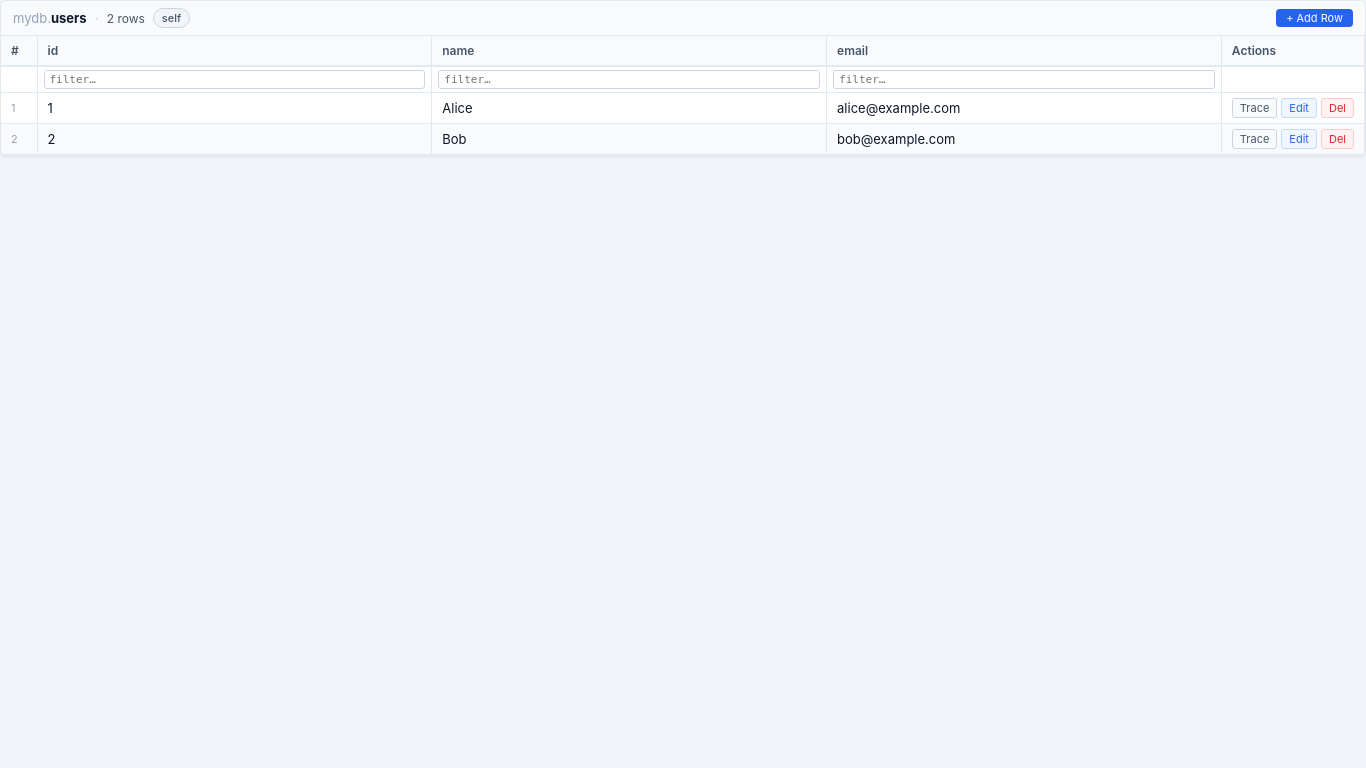
Test: TableGrid › Edit button opens modal
Click the button "Edit" in the row of "alice@example.com" at (1299,108), box [1281,98,1317,118]
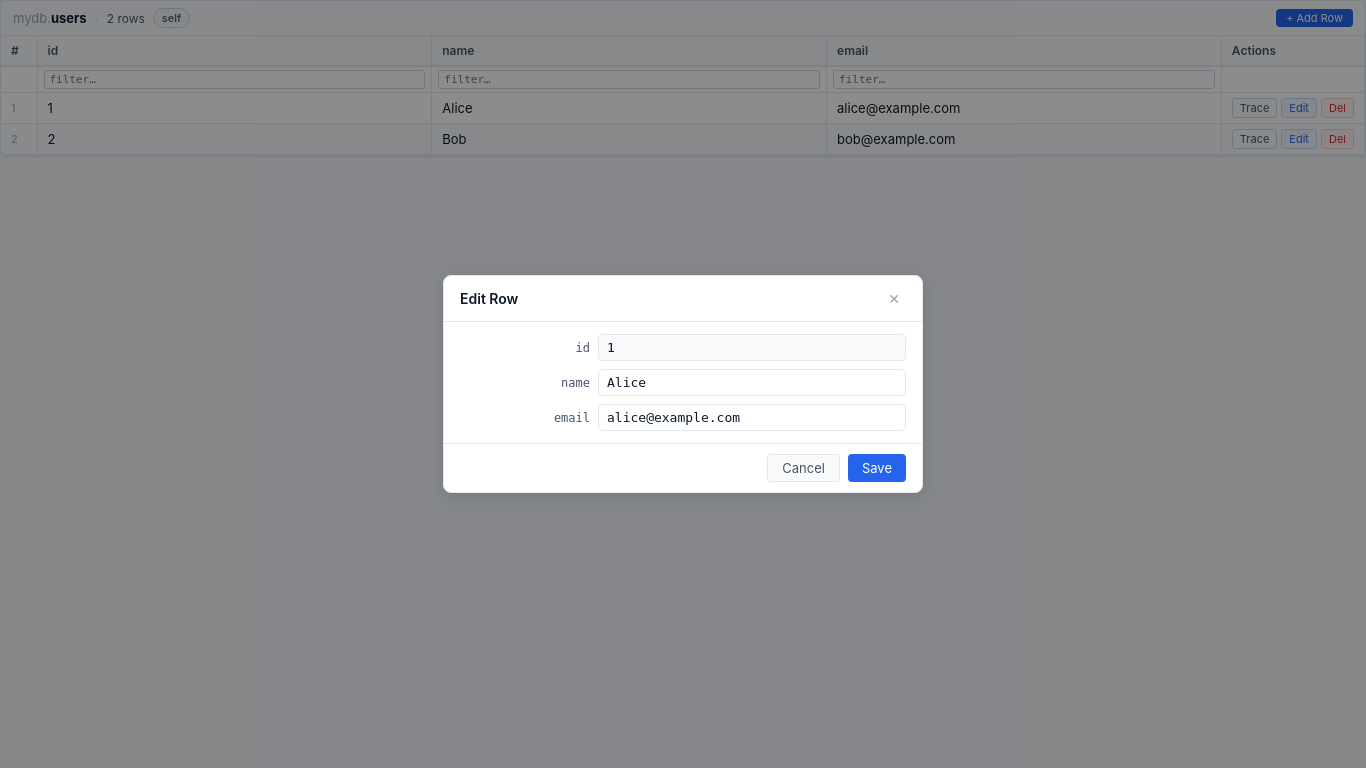
Now the text "Edit Row" is shown, box [460,290,518,307]
